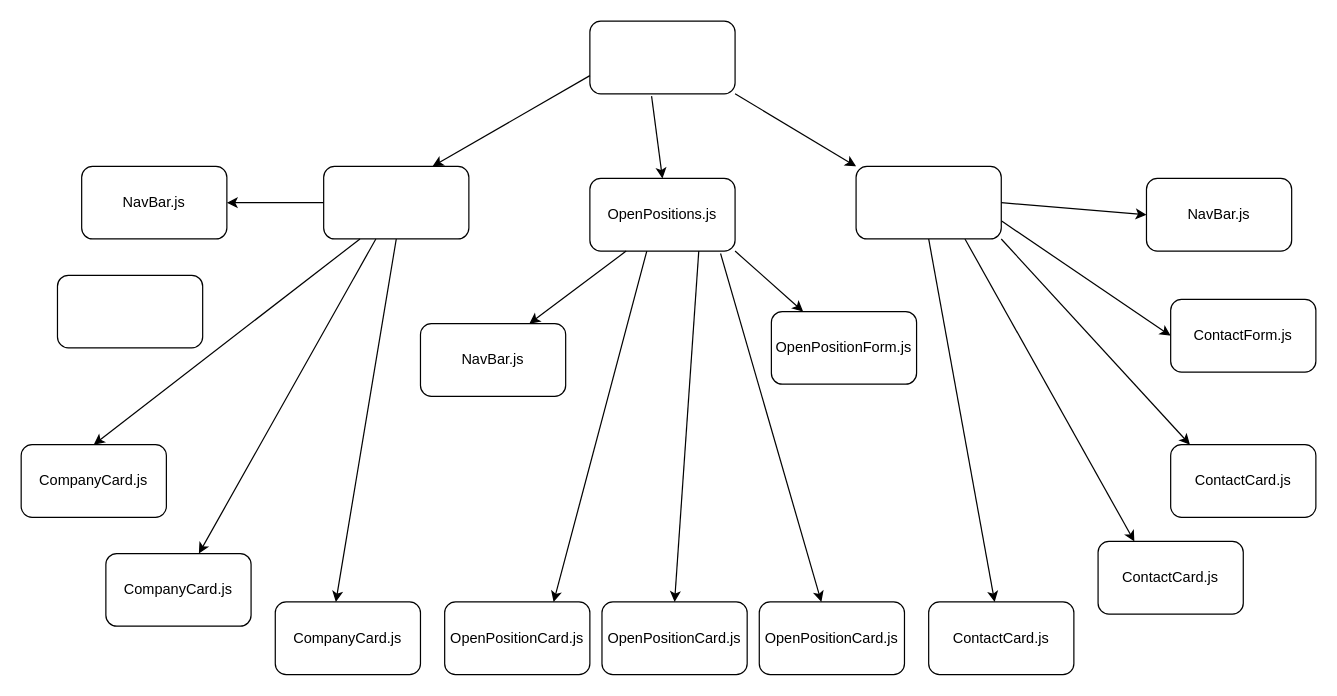
This 1337x696 diagram has some shape labels left out. The centre of each missing label's shape, as x and y in pixels:
"App.js" goes at (x=662, y=57).
"Companies.js" goes at (x=395, y=202).
"CompanyForm.js" goes at (x=129, y=311).
"Contacts.js" goes at (x=928, y=202).
